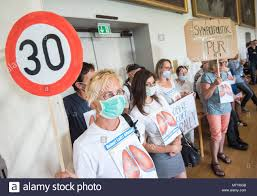sp30: (4, 18, 86, 84)
